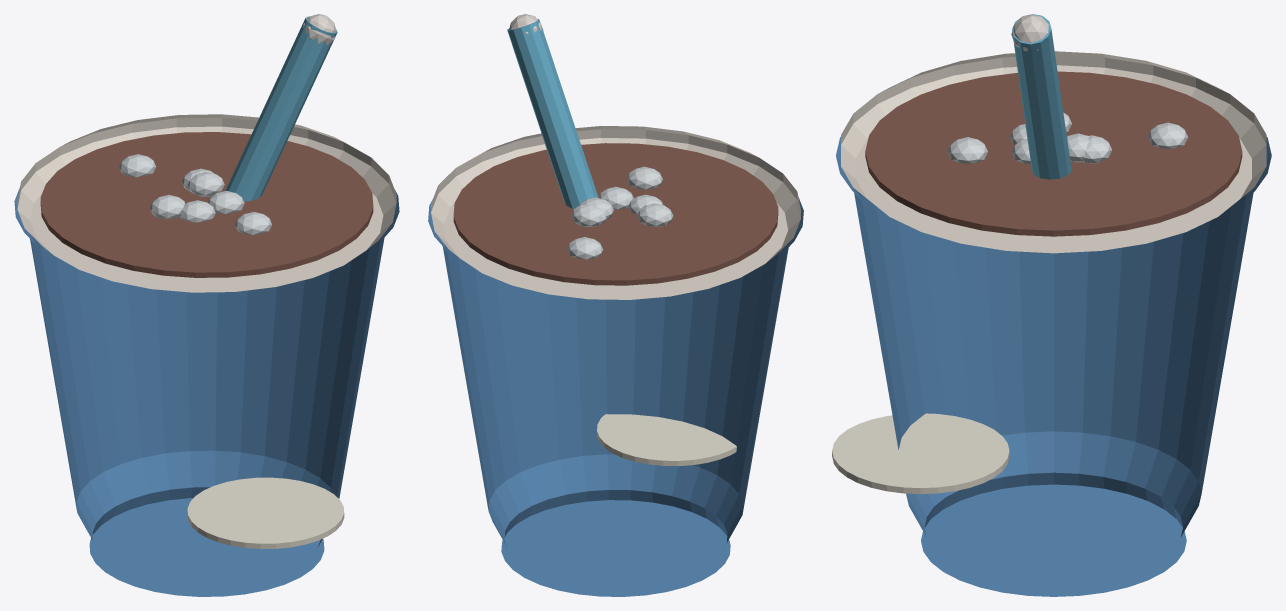
Rendered from drink.glb.
3 renders of one model, left to right at view 1: azimuth 30°, elevation 25°; view 2: azimuth 150°, elevation 25°; view 3: azimuth 270°, elevation 25°, orthographic. The views are drawn at different scales.
Parts seen in each view (by area): view 1: obj_0000, obj_0001, obj_0002, obj_0003, obj_0004, obj_0006, obj_0009, obj_0011, obj_0007, obj_0008, obj_0005, obj_0010; view 2: obj_0000, obj_0001, obj_0002, obj_0004, obj_0003, obj_0007, obj_0009, obj_0011, obj_0012, obj_0008; view 3: obj_0000, obj_0001, obj_0002, obj_0003, obj_0004, obj_0005, obj_0009, obj_0011, obj_0012.
Part boxes in pixels (x1,y1,x2,y2): obj_0000: (14,187,399,596); obj_0001: (40,132,373,277); obj_0002: (17,114,396,292); obj_0003: (187,477,344,548); obj_0004: (225,16,337,201); obj_0006: (187,172,224,196); obj_0009: (235,212,271,235); obj_0011: (119,154,155,177); obj_0007: (150,195,185,218); obj_0008: (208,191,244,214); obj_0005: (302,14,336,45); obj_0010: (180,200,215,222); obj_0000: (428,197,803,596); obj_0001: (453,143,778,285); obj_0002: (431,126,800,299); obj_0004: (507,19,598,208); obj_0003: (597,414,736,466); obj_0007: (637,203,673,226); obj_0009: (626,166,662,189); obj_0011: (567,237,603,259); obj_0012: (571,204,606,226); obj_0008: (599,186,633,209); obj_0000: (836,137,1271,596); obj_0001: (865,71,1242,236); obj_0002: (841,51,1266,253); obj_0003: (832,413,1009,494); obj_0004: (1012,14,1071,179); obj_0005: (1011,14,1048,51); obj_0009: (947,137,987,163); obj_0011: (1147,122,1188,148); obj_0012: (1083,135,1111,163).
Size of the model in its own units: 1.18 by 1.73 by 1.19.
